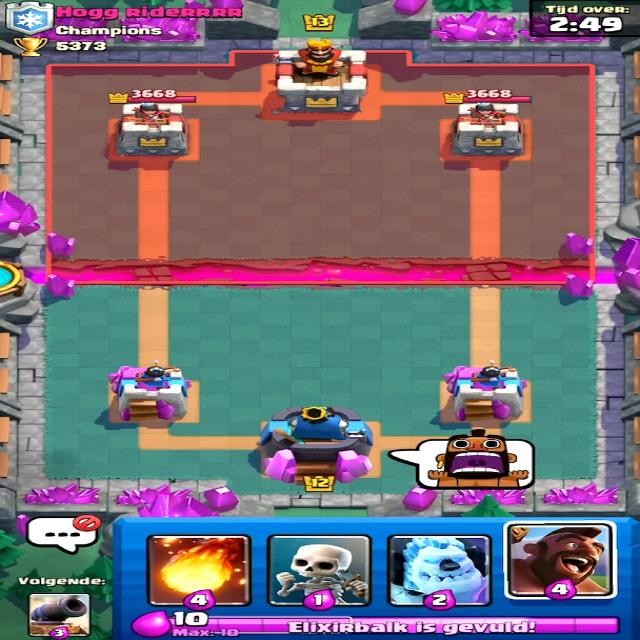Fireball_Card: (148, 533, 250, 606)
Hog_Rider_Card: (504, 520, 617, 598)
Ice_Golem_Card: (391, 536, 492, 607)
Skeleton_Card: (270, 535, 364, 606)
